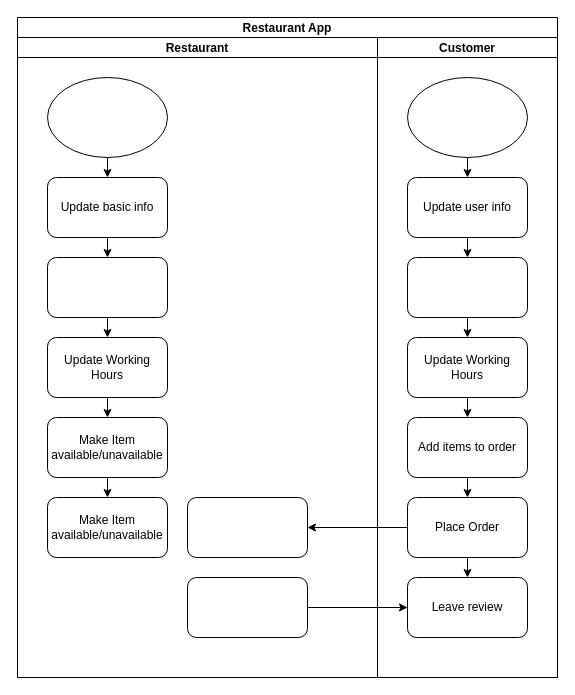
The diagram is 575 pixels wide and 695 high, and some of its shapes have lost their labels. Here are the shapes that lost their labels. From the top down, the centre of each, then its label:
At [107,117]: "Create restaurant".
At [467,117]: "Create user profile".
At [107,287]: "Add/update/delete Menu Items".
At [467,287]: "Search for restaurants".
At [247,527]: "Process Order".
At [247,607]: "Reply to review".
